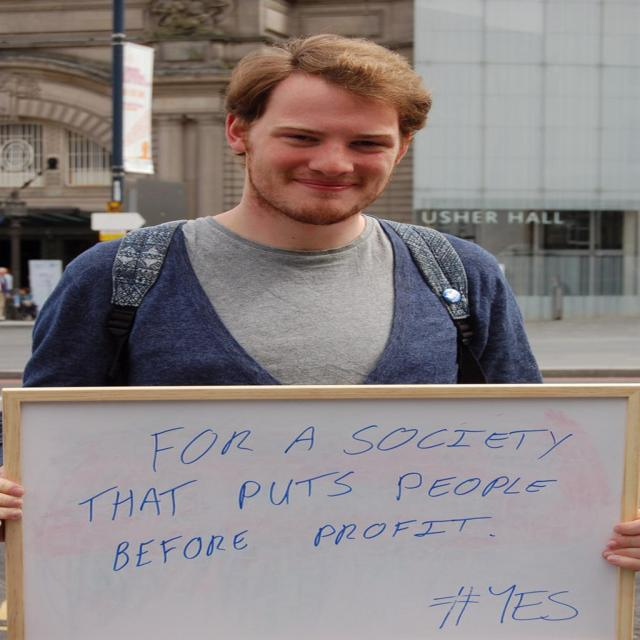Face: (252, 64, 406, 216)
